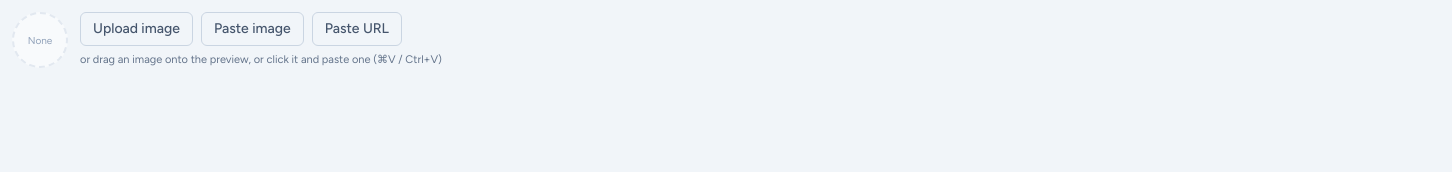
ImageUploadField › collapseUrlInput › starts the URL input collapsed behind a "Paste URL" toggle, which stays put and opens/closes it
This screenshot has width=1452, height=172.
expect the field with placeholder "https://…" is not shown: met
What coordinates should you click on to do the following:
click the button "Paste URL"
I would click on:
 (357, 29)
Its box is [312,12,402,46].
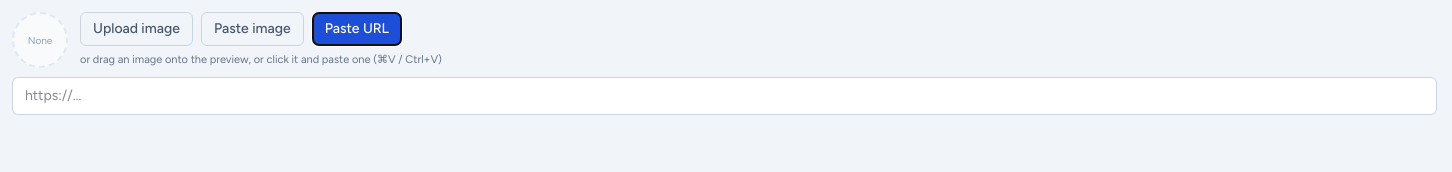
expect the field with placeholder "https://…" is shown: met, box [12,76,1437,114]
What coordinates should you click on to do the following:
click the button "Paste URL"
I would click on:
 (357, 29)
Its box is [312,12,402,46].
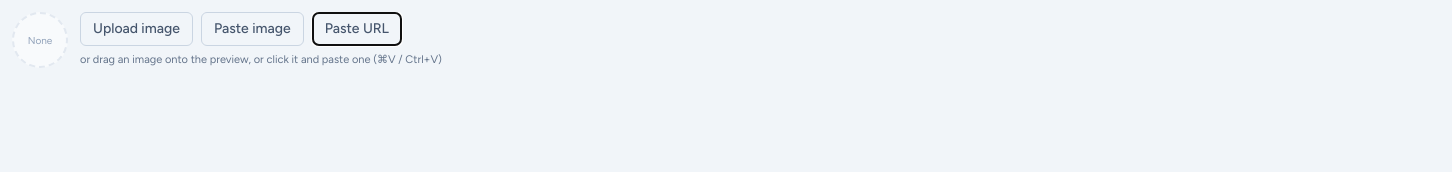
expect the field with placeholder "https://…" is gone: met
